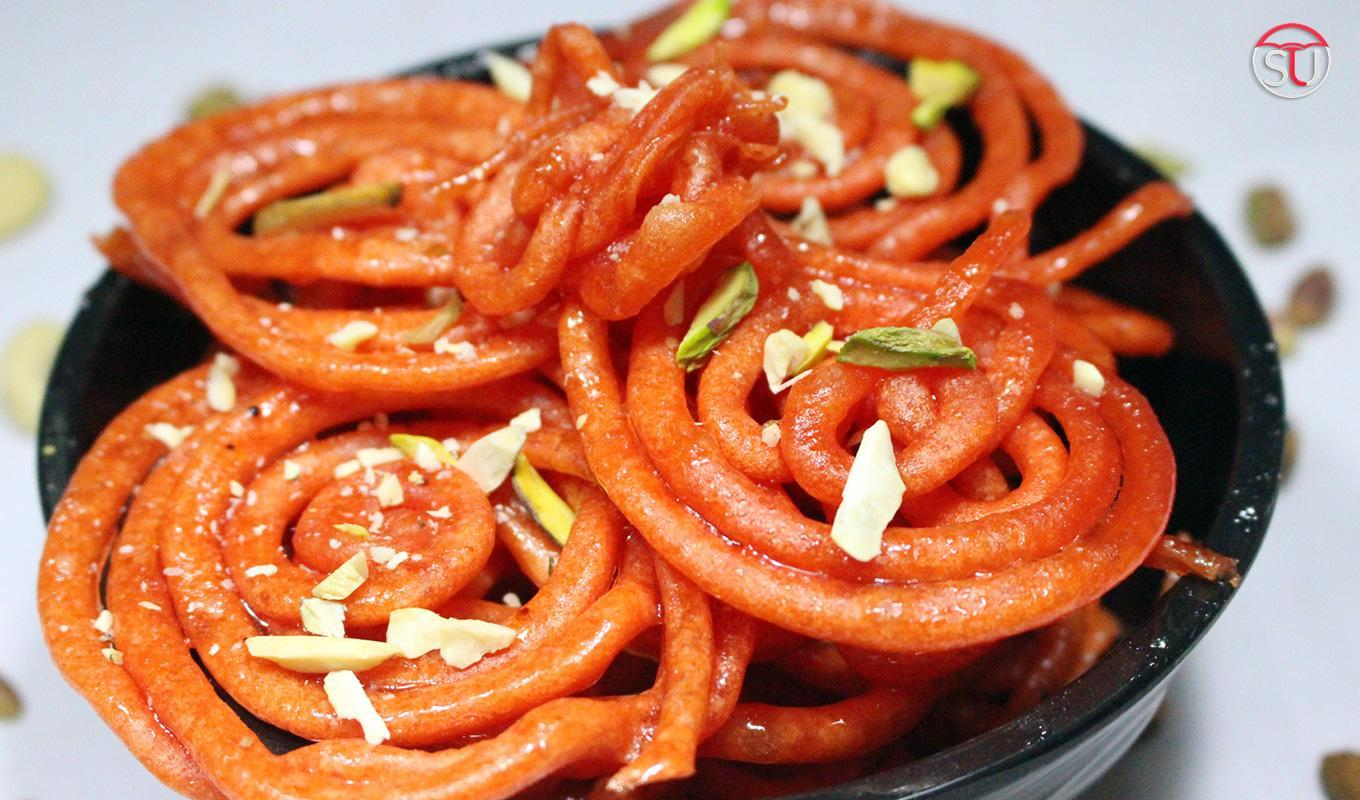jalebi: (44, 59, 1172, 800)
